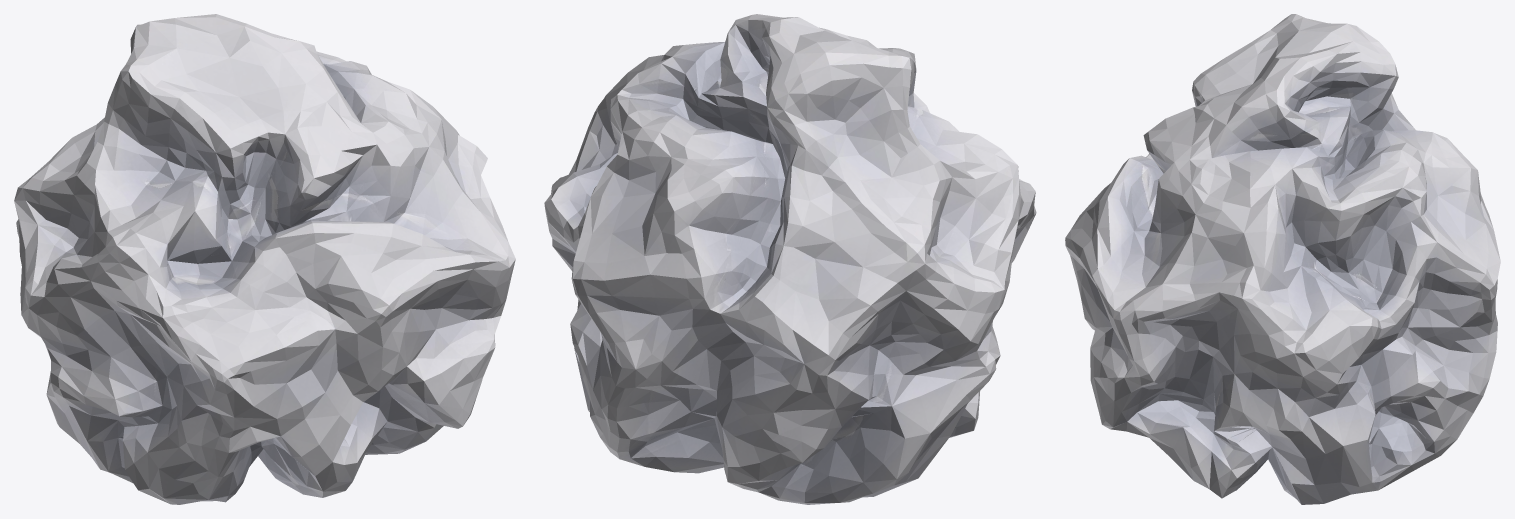
Rendered from tripo_convert_395cb931-78cc-45f9-8f61-316424b09863.obj.
3 renders of one model, left to right at view 1: azimuth 30°, elevation 25°; view 2: azimuth 150°, elevation 25°; view 3: azimuth 270°, elevation 25°, orthographic. The views are drawn at different scales.
Visible parts, largest first — view 1: tripo_node_395cb931-78cc-45f9-8f61-316424b09863; view 2: tripo_node_395cb931-78cc-45f9-8f61-316424b09863; view 3: tripo_node_395cb931-78cc-45f9-8f61-316424b09863.
Boxes of the visible parts, box(x1,y1,x2,y2) form: tripo_node_395cb931-78cc-45f9-8f61-316424b09863: box(14, 14, 515, 504); tripo_node_395cb931-78cc-45f9-8f61-316424b09863: box(544, 14, 1036, 504); tripo_node_395cb931-78cc-45f9-8f61-316424b09863: box(1065, 14, 1500, 504).
Bounding box in the file's own units: 0.9733 × 0.9545 × 0.9157.
1 material, 1 textured.
